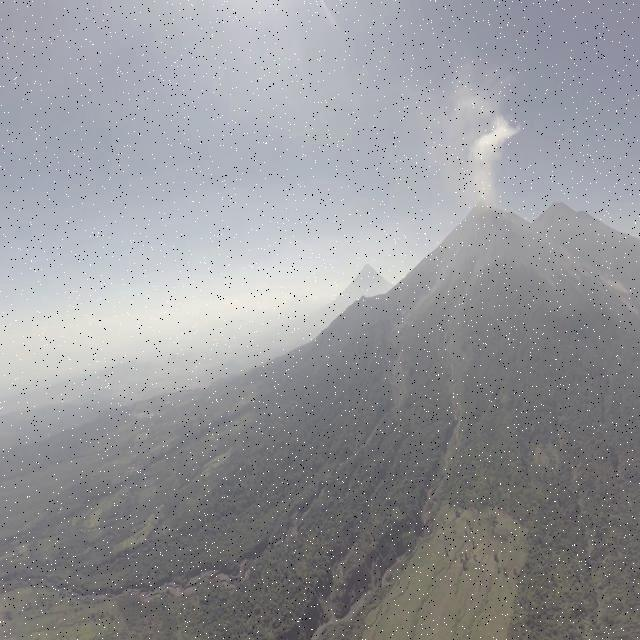Plume: (463, 113, 520, 210)
Summit: (462, 193, 516, 235)
